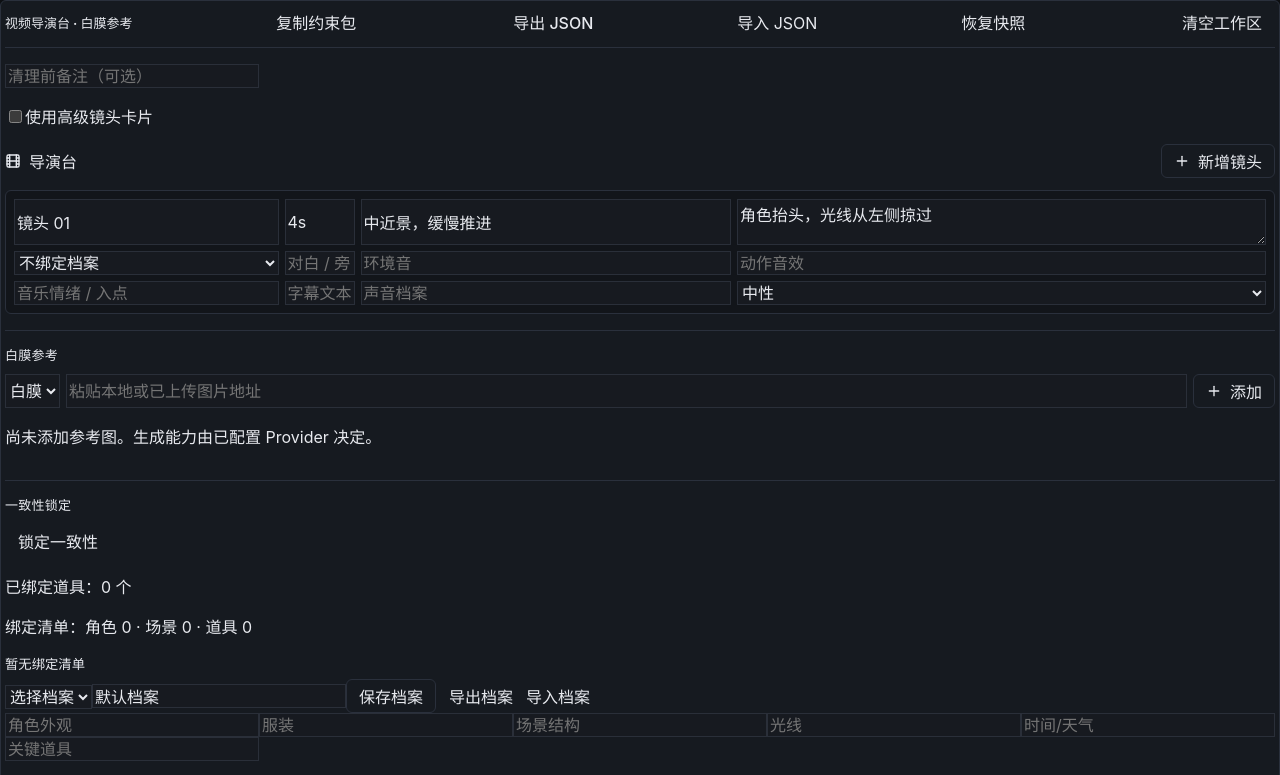
it: MultimodalDirectorWorkspace › adds a director shot in video mode
Expected: the number of fields named "镜头名称" is 1, [14,199,278,245]
Click the button "新增镜头". click: (1218,161)
box: [1161,144,1275,178]
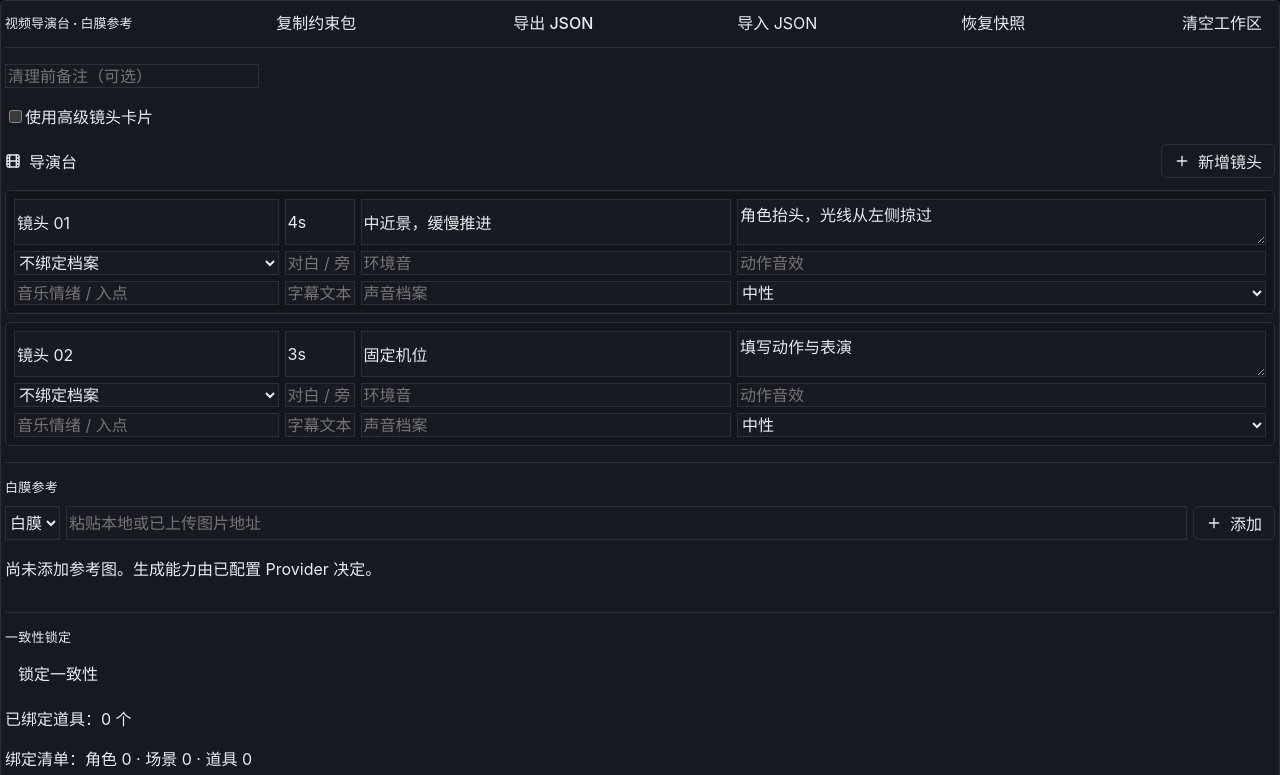
Expected: the number of fields named "镜头名称" is 2, [14,199,278,245]; [14,331,278,377]
